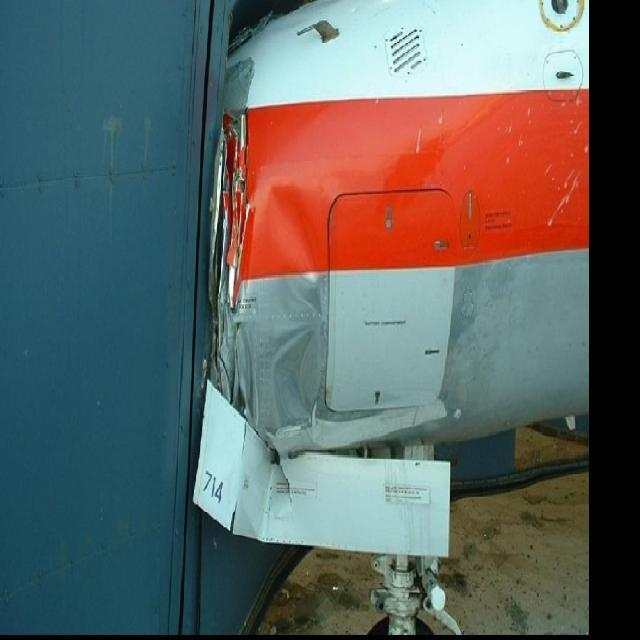dent: (258, 168, 333, 436)
